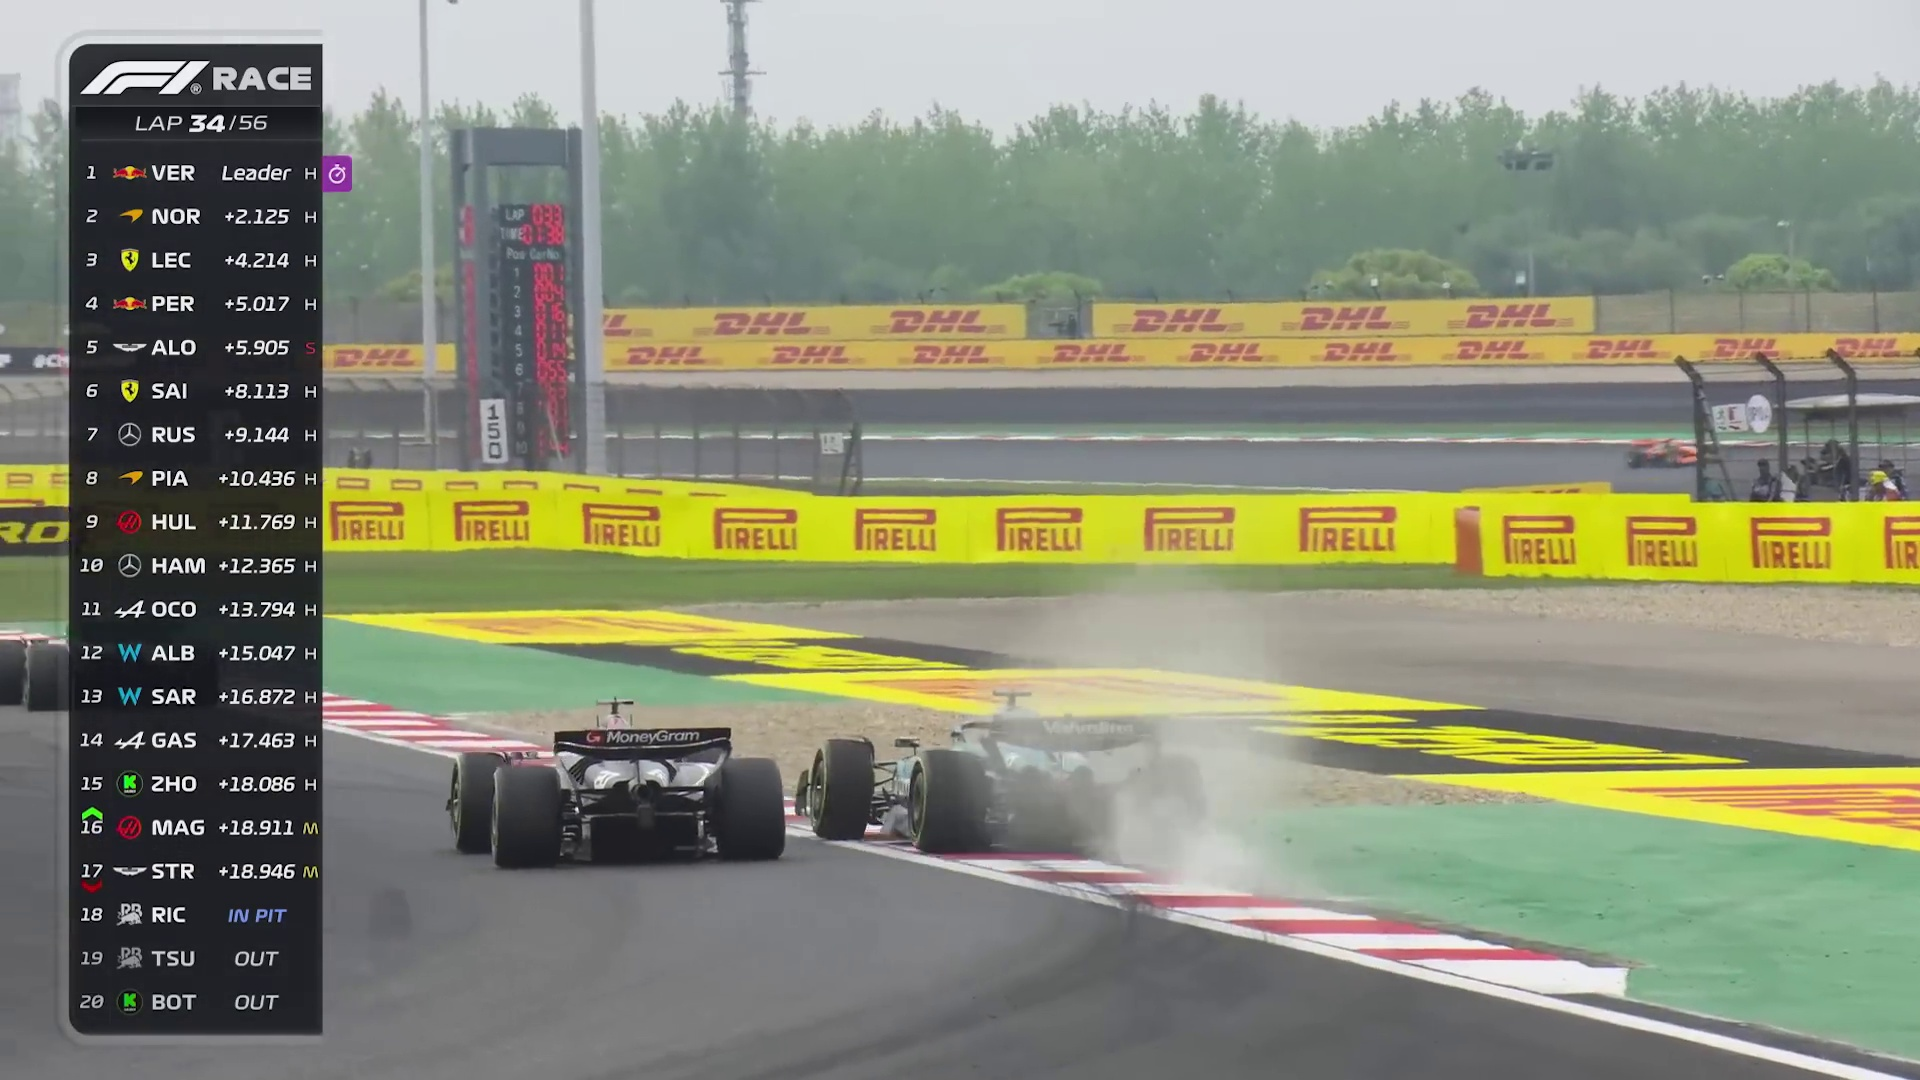AstonMartin: (815, 707, 1204, 857)
Haas: (454, 705, 789, 861)
